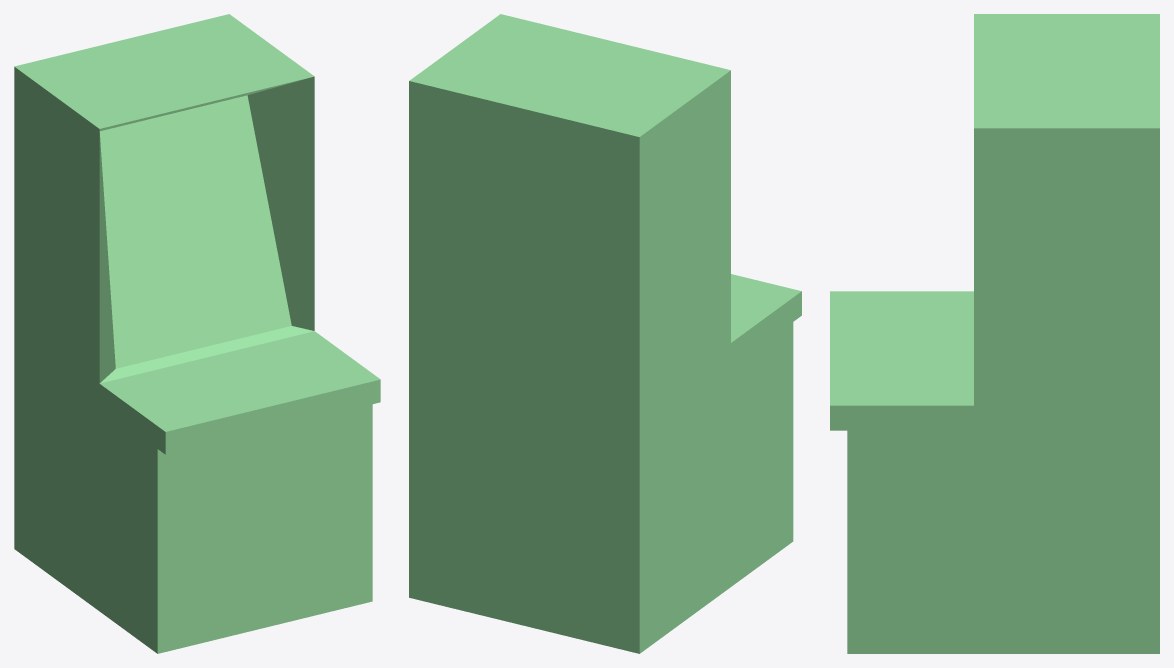
Rendered from MT_Arcade_machine.fbx.
3 renders of one model, left to right at view 1: azimuth 30°, elevation 25°; view 2: azimuth 150°, elevation 25°; view 3: azimuth 270°, elevation 25°, orthographic. The views are drawn at different scales.
Visible parts, largest first — view 1: Cube; view 2: Cube; view 3: Cube.
Boxes of the visible parts, x1=… form: Cube: x1=14, y1=14, x2=380, y2=653; Cube: x1=409, y1=14, x2=801, y2=653; Cube: x1=830, y1=14, x2=1159, y2=653.
Bounding box in the file's own units: 84.67 × 181 × 103.
